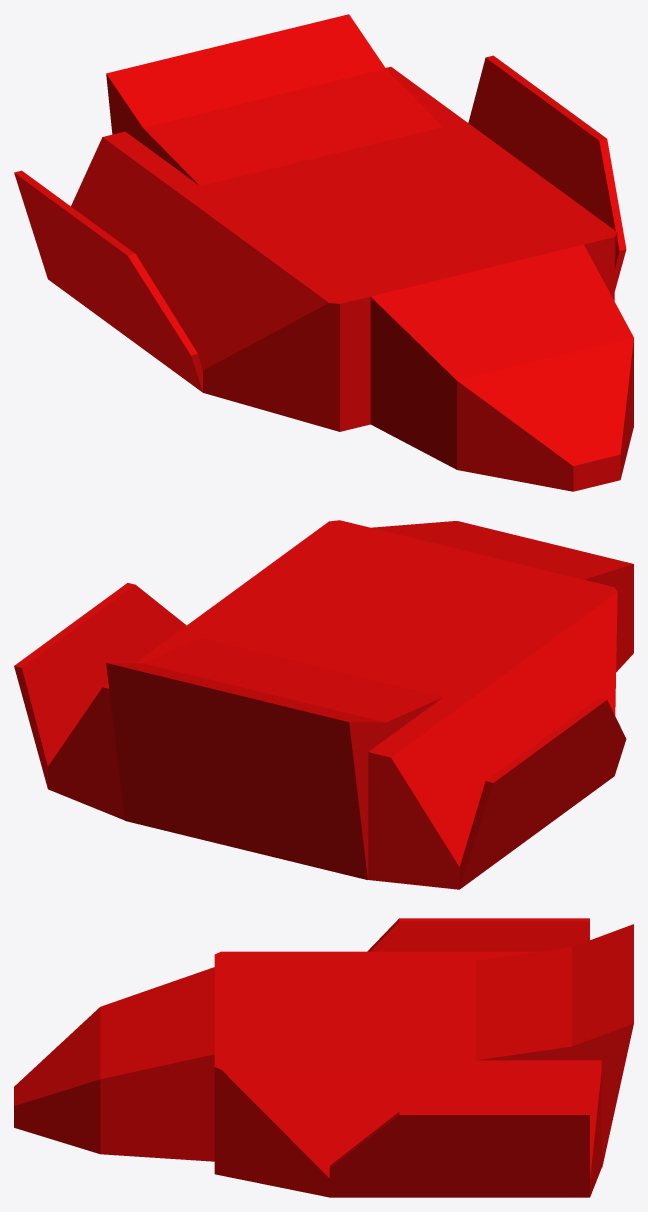
Rendered from AH_car_prot.fbx.
The picture shows the model from 3 angles, top to bottom: view 1: azimuth 30°, elevation 25°; view 2: azimuth 150°, elevation 25°; view 3: azimuth 270°, elevation 25°; orthographic projection. The views are drawn at different scales.
Parts seen in each view (by area): view 1: Cube; view 2: Cube; view 3: Cube.
Part boxes in pixels (bbox=[...]): Cube: bbox=[14, 14, 633, 491]; Cube: bbox=[14, 520, 633, 889]; Cube: bbox=[14, 918, 633, 1197].
Size of the model in its own units: 3.95 by 1.35 by 5.27.
